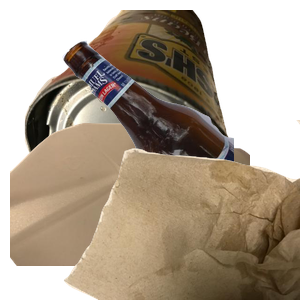glass: (60, 38, 300, 218)
metal: (22, 10, 251, 190)
plastic: (10, 120, 250, 300)
trash: (60, 120, 300, 300)
